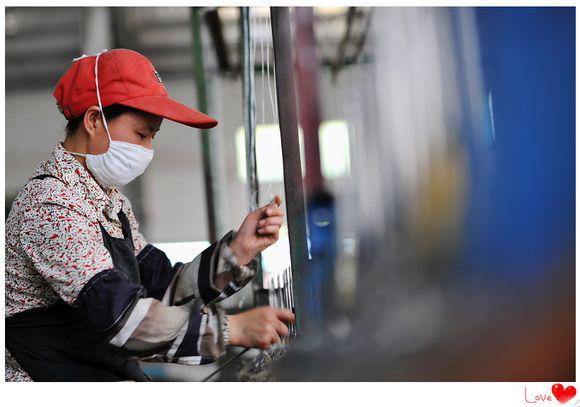OK: (88, 114, 160, 189)
